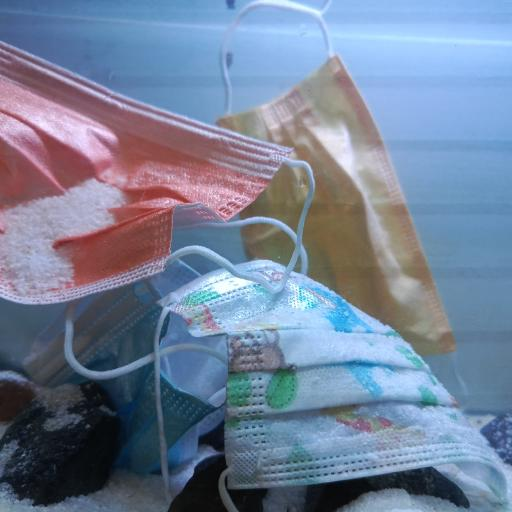mask: (156, 257, 512, 512), (0, 40, 318, 306), (214, 52, 455, 358), (23, 259, 230, 477)
